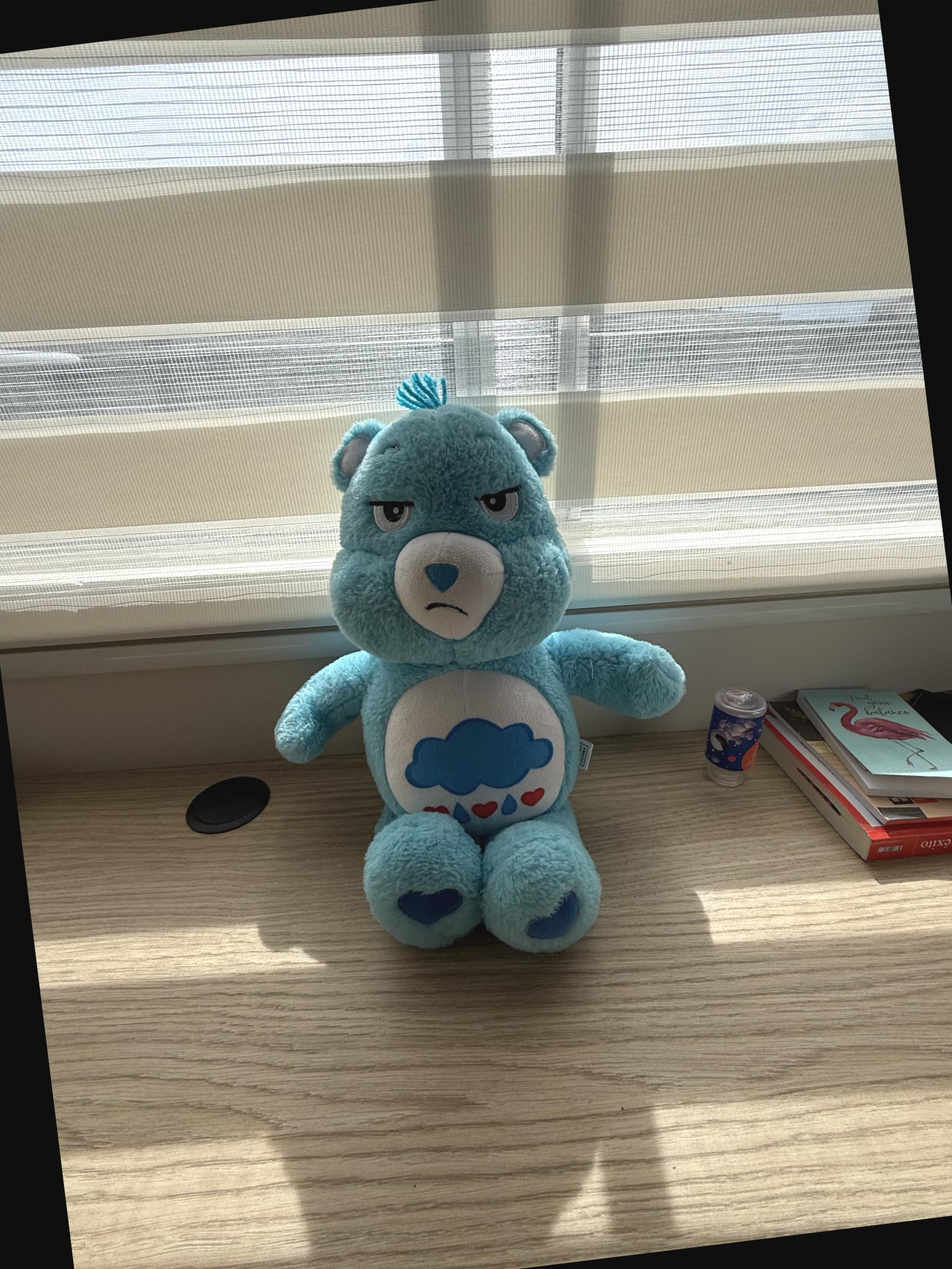peluche_Juan Jose: (230, 343, 714, 982)
